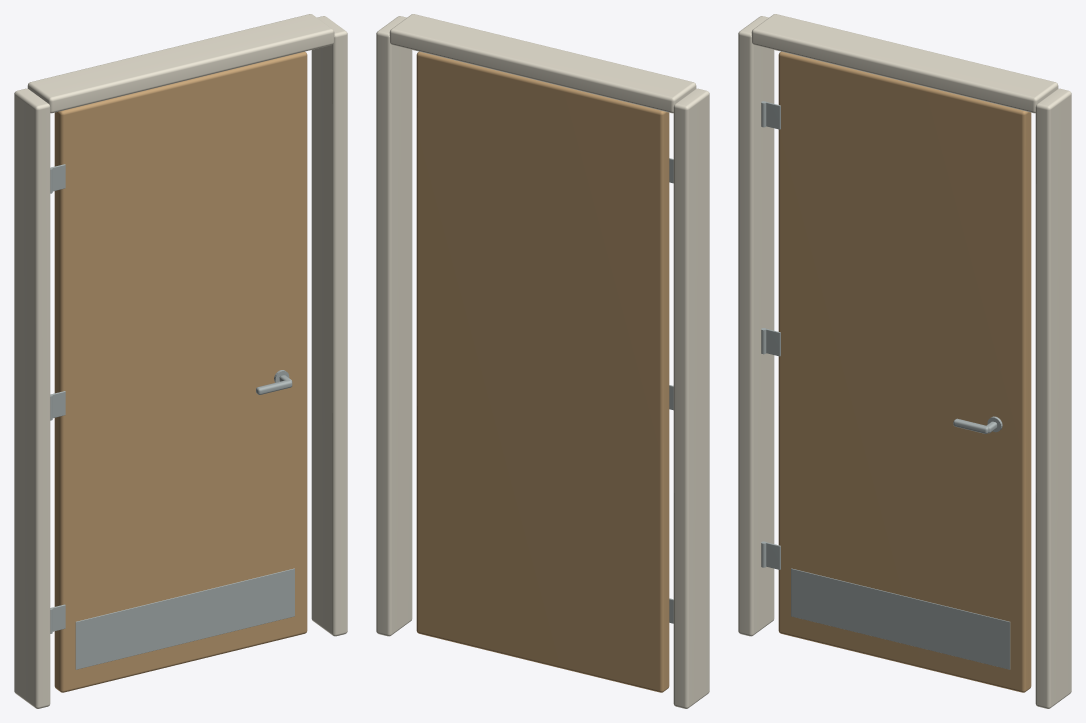
Rendered from ReusedDoor.fbx.
The picture shows the model from 3 angles, left to right: view 1: azimuth 30°, elevation 25°; view 2: azimuth 150°, elevation 25°; view 3: azimuth 330°, elevation 25°; orthographic projection.
Parts seen in each view (by area): view 1: Door leaf, Door jamb, Door jamb.001, Kick plate, Lintel; view 2: Door leaf, Door jamb, Door jamb.001, Lintel; view 3: Door leaf, Door jamb.001, Door jamb, Kick plate, Lintel.
Part boxes in pixels (<box>): Door leaf: <box>54,51,307,692</box>; Door jamb: <box>14,88,50,708</box>; Door jamb.001: <box>311,16,347,636</box>; Kick plate: <box>75,568,294,669</box>; Lintel: <box>27,14,334,113</box>; Door leaf: <box>416,51,669,692</box>; Door jamb: <box>673,88,709,708</box>; Door jamb.001: <box>376,16,412,636</box>; Lintel: <box>389,14,696,113</box>; Door leaf: <box>778,51,1031,692</box>; Door jamb.001: <box>1035,88,1071,708</box>; Door jamb: <box>738,16,774,636</box>; Kick plate: <box>791,568,1010,669</box>; Lintel: <box>751,14,1058,113</box>.
Size of the model in its own units: 123 by 228 by 18.25.
